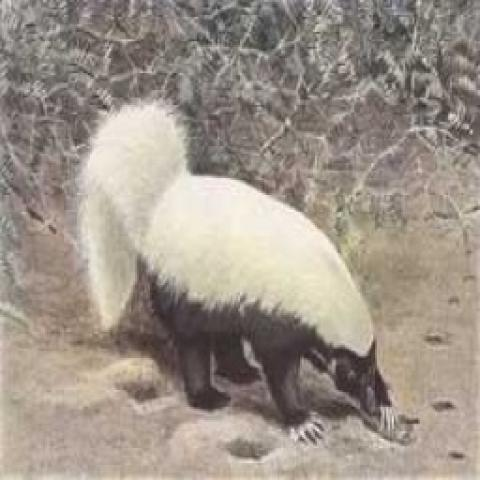small_animal: (71, 94, 418, 448)
